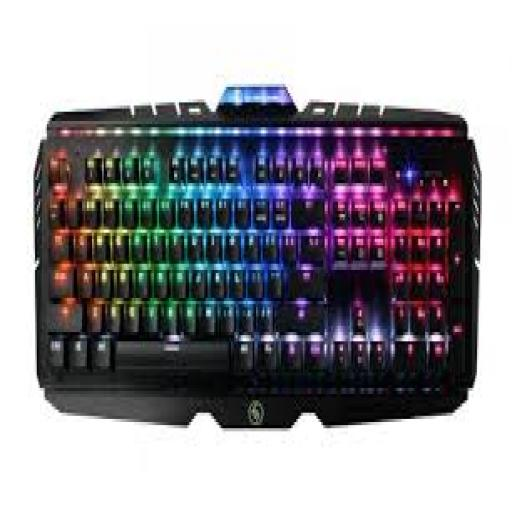keyboard: (33, 87, 480, 422)
